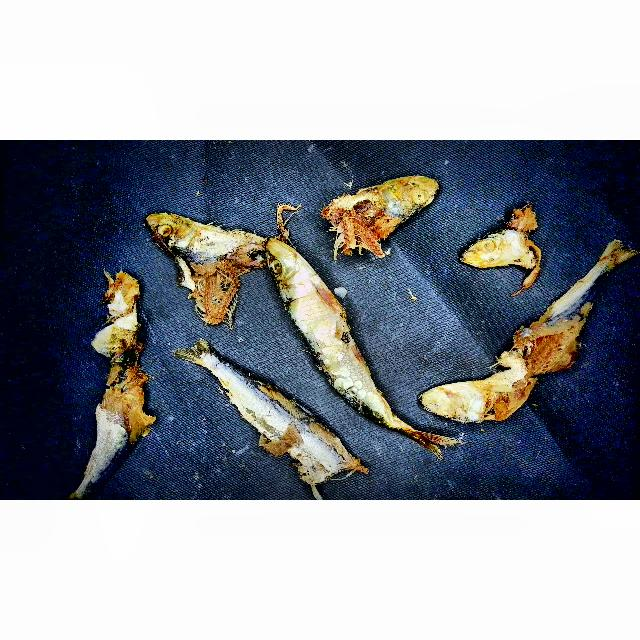Rejected_Body: (223, 366, 371, 496), (281, 295, 390, 406), (489, 284, 611, 382), (81, 358, 158, 471)
Rejected_Head: (144, 208, 267, 330), (319, 169, 443, 262), (454, 210, 549, 286), (86, 269, 154, 359), (415, 378, 514, 428), (265, 235, 323, 309)
Rejected_Tail: (370, 410, 460, 462), (580, 235, 637, 282), (179, 336, 231, 377)
